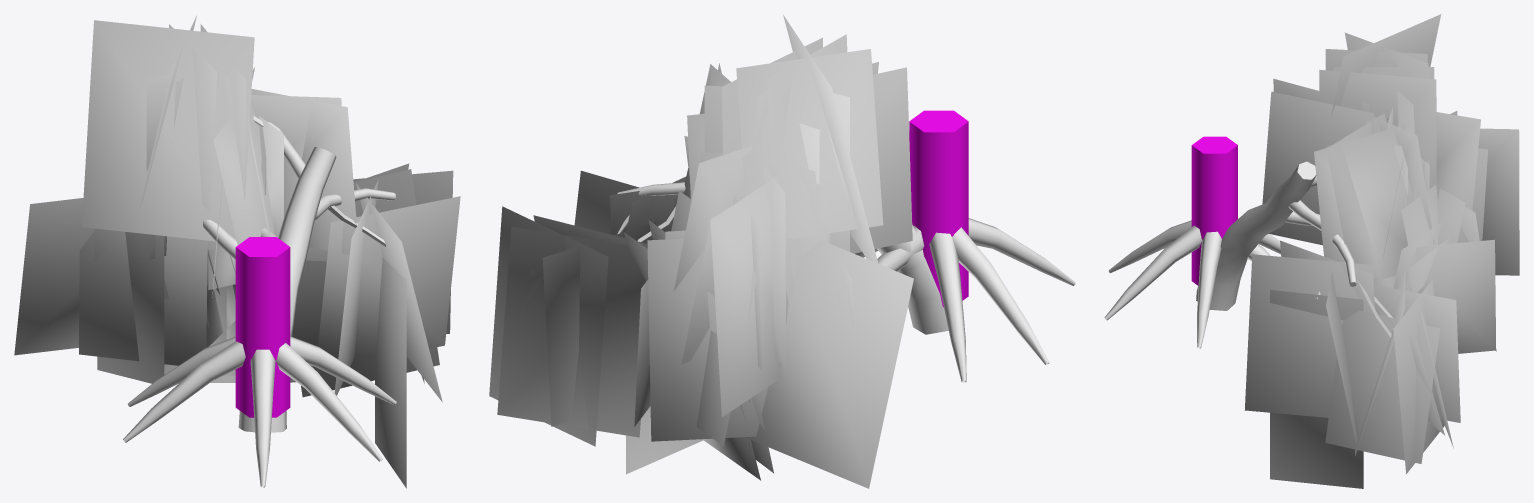
File: tree_swamp.glb
The picture shows the model from 3 angles, left to right: view 1: azimuth 30°, elevation 25°; view 2: azimuth 150°, elevation 25°; view 3: azimuth 270°, elevation 25°; orthographic projection. The views are drawn at different scales.
Parts seen in each view (by area): view 1: tree_swamp, tree_swamp_hull; view 2: tree_swamp, tree_swamp_hull; view 3: tree_swamp, tree_swamp_hull.
Boxes of the visible parts, x1=… form: tree_swamp: x1=14, y1=15, x2=460, y2=488; tree_swamp_hull: x1=235, y1=237, x2=290, y2=417; tree_swamp: x1=489, y1=14, x2=1075, y2=488; tree_swamp_hull: x1=909, y1=110, x2=968, y2=307; tree_swamp: x1=1104, y1=14, x2=1519, y2=488; tree_swamp_hull: x1=1191, y1=136, x2=1237, y2=285.
Bounding box in the file's own units: 8.22 × 8.33 × 8.3.
